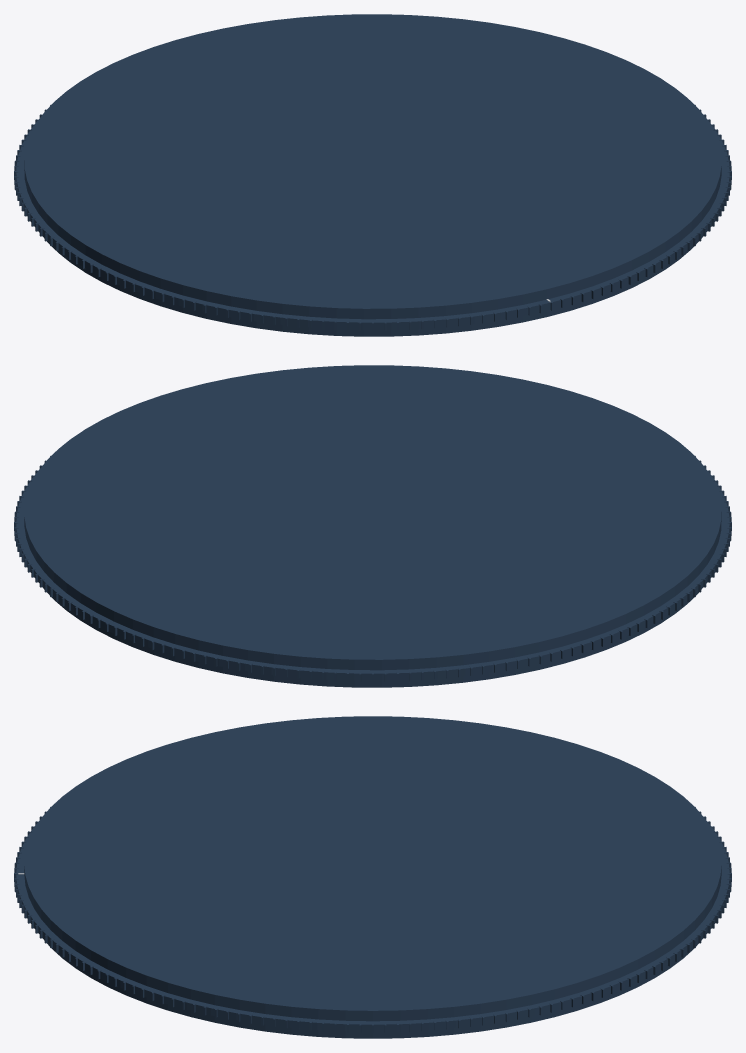
Rendered from yaw_handle.glb.
3 views of the same model, one above another, from view 1: azimuth 30°, elevation 25°; view 2: azimuth 150°, elevation 25°; view 3: azimuth 270°, elevation 25° (orthographic).
Parts seen in each view (by area): view 1: Base hole, Base.004, Cube.021; view 2: Base hole, Base.004, Cube.021; view 3: Base hole, Base.004, Cube.021.
Boxes of the visible parts, x1,y1,x2,y2 form: Base hole: [24, 14, 721, 336]; Base.004: [16, 118, 729, 329]; Cube.021: [14, 105, 731, 330]; Base hole: [24, 365, 721, 687]; Base.004: [16, 468, 729, 680]; Cube.021: [14, 456, 731, 681]; Base hole: [24, 716, 721, 1038]; Base.004: [16, 823, 729, 1031]; Cube.021: [14, 807, 731, 1032].
Size of the model in its own units: 2.26 by 0.0971 by 2.26.
